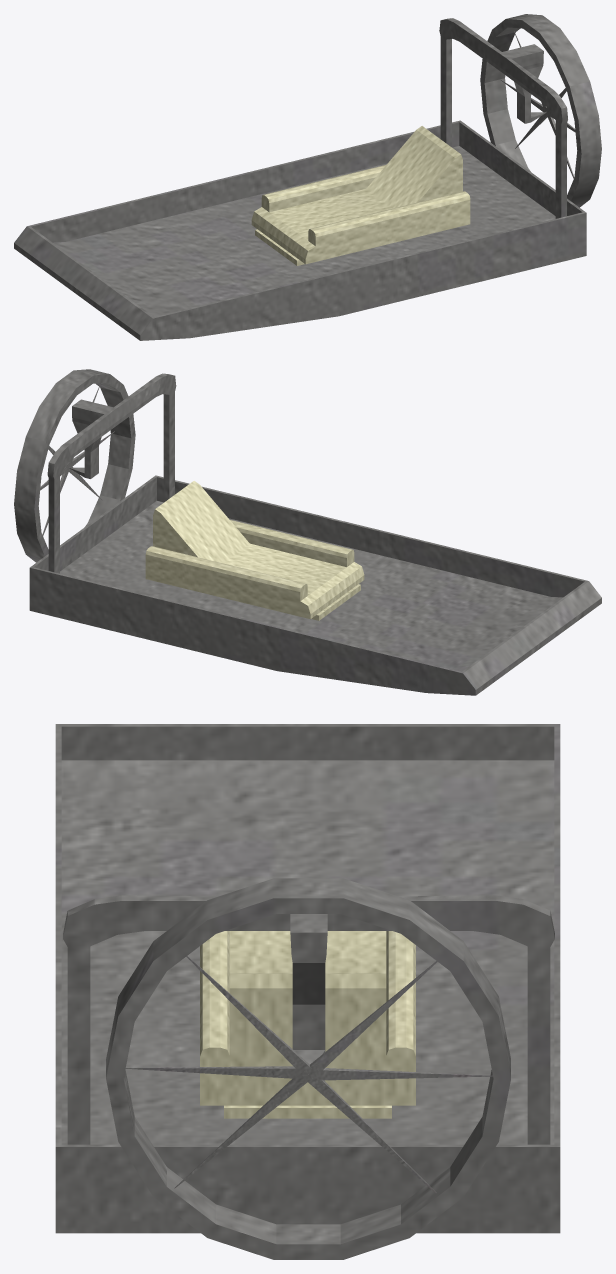
The model's file is cj_boat.FBX.
3 views of the same model, one above another, from view 1: azimuth 30°, elevation 25°; view 2: azimuth 150°, elevation 25°; view 3: azimuth 270°, elevation 25° (orthographic). The views are drawn at different scales.
Visible parts, largest first — view 1: cj_boat, cj_fan; view 2: cj_boat, cj_fan; view 3: cj_boat, cj_fan.
Boxes of the visible parts, box(x1,y1,x2,y2) form: cj_boat: box(14, 14, 601, 340); cj_fan: box(501, 31, 575, 178); cj_boat: box(14, 369, 601, 695); cj_fan: box(40, 385, 114, 535); cj_boat: box(55, 724, 560, 1259); cj_fan: box(125, 956, 492, 1193).
Size of the model in its own units: 184 by 85 by 67.29.
